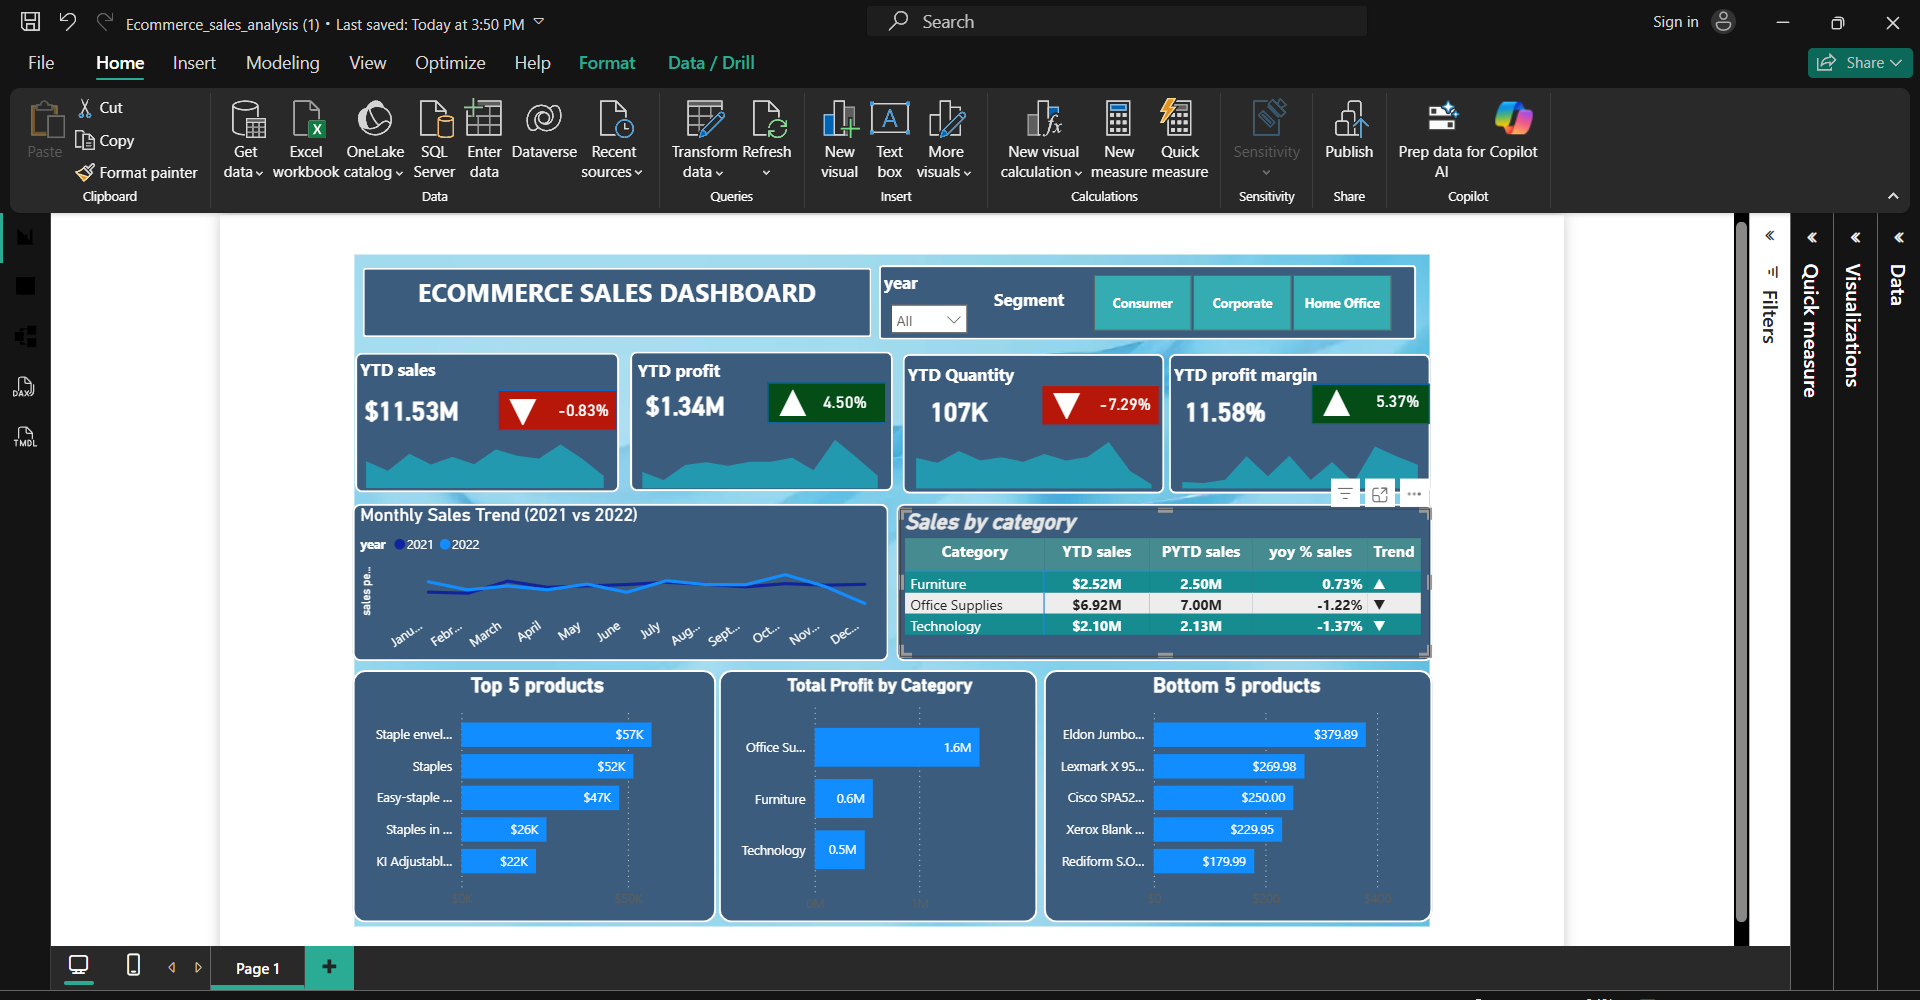

Layout of this report page (visuals, bound fields, positions):
{"tool":"powerbi","page":{"name":"Page 1","canvas":[1280,720],"ordinal":0},"visuals":[{"type":"shape","box":[135.6,49.4,485.1,66.7],"z":0},{"type":"textbox","box":[135.6,52.9,485.1,63.2],"z":1000},{"type":"shape","box":[129,131.2,251.6,133.3],"z":2000},{"type":"card","fields":{"Values":["sales_analysis ecommerce_data.YTD sales"]},"box":[129,159.1,108.6,52.7],"z":3000},{"type":"areaChart","fields":{"Category":["calendar_date.Month"],"Y":["Sum(sales_analysis ecommerce_data.sales_per_order)"]},"box":[125.8,197.8,252.7,67.7],"z":4000},{"type":"shape","box":[126.2,275,510.7,150],"z":5000},{"type":"shape","box":[264.5,166.7,114,38.7],"z":6000},{"type":"card","fields":{"Values":["sales_analysis ecommerce_data.yoy % sales"]},"box":[312.9,167.7,65.6,37.6],"z":7000},{"type":"textbox","box":[129,131.2,84.9,37.6],"z":8000},{"type":"shape","box":[390.3,130.1,250.5,133.3],"z":9000},{"type":"card","fields":{"Values":["sales_analysis ecommerce_data.YTD profit"]},"box":[389.2,154.8,108,52.7],"z":10000},{"type":"areaChart","fields":{"Category":["calendar_date.Month"],"Y":["Sum(sales_analysis ecommerce_data.profit_per_order)"]},"box":[389.2,198.9,250.5,66.7],"z":11000},{"type":"shape","box":[521.5,159.1,113,38.7],"z":12000},{"type":"card","fields":{"Values":["sales_analysis ecommerce_data.YOY profit"]},"box":[563.4,161.3,64.5,36.6],"z":13000},{"type":"card","fields":{"Values":["sales_analysis ecommerce_data.Sales Icon"]},"box":[264.5,166.7,48.4,38.7],"z":14000},{"type":"textbox","box":[392.5,132.3,104.3,37.6],"z":15000},{"type":"shape","box":[650.5,132.3,249.5,133.3],"z":16000},{"type":"card","fields":{"Values":["sales_analysis ecommerce_data.YTD Quantity"]},"box":[650.5,161.3,107.5,52.7],"z":17000},{"type":"areaChart","fields":{"Category":["calendar_date.Month"],"Y":["Sum(sales_analysis ecommerce_data.order_quantity)"]},"box":[650.5,200,250.5,65.6],"z":18000},{"type":"shape","box":[781.7,162.4,112.9,38.7],"z":19000},{"type":"card","fields":{"Values":["sales_analysis ecommerce_data.YOY quantity"]},"box":[830.1,163.4,64.5,36.6],"z":20000},{"type":"card","fields":{"Values":["sales_analysis ecommerce_data.Quantity Icon"]},"box":[781.7,161.3,48.4,38.7],"z":21000},{"type":"textbox","box":[650.5,135.5,131.2,37.6],"z":22000},{"type":"card","fields":{"Values":["sales_analysis ecommerce_data.Profit Icon"]},"box":[521.5,158.1,48.4,38.7],"z":23000},{"type":"shape","box":[903.1,131.9,249.5,133.3],"z":24000},{"type":"card","fields":{"Values":["sales_analysis ecommerce_data.YTD profit margin"]},"box":[903.1,161,107.5,52.7],"z":25000},{"type":"areaChart","fields":{"Category":["calendar_date.Month"],"Y":["sales_analysis ecommerce_data.Profit_Margin"]},"box":[903.1,199.7,250.5,65.6],"z":26000},{"type":"shape","box":[1039.7,161,112.9,38.7],"z":27000},{"type":"card","fields":{"Values":["sales_analysis ecommerce_data.Profit margin Icon"]},"box":[1039.7,158.8,48.4,38.7],"z":28000},{"type":"textbox","box":[903.2,135.5,177.4,32.3],"z":29000},{"type":"card","fields":{"Values":["sales_analysis ecommerce_data.YOY profit margin"]},"box":[1089.2,161.3,64.5,35.5],"z":30000},{"type":"lineChart","title":"Monthly Sales Trend (2021 vs 2022)","fields":{"Category":["calendar_date.Month"],"Y":["Sum(sales_analysis ecommerce_data.sales_per_order)"],"Series":["calendar_date.year"]},"box":[128.6,275,506,150],"z":31000},{"type":"shape","box":[644,275,510.7,150],"z":32000},{"type":"pivotTable","title":"Sales by category","fields":{"Rows":["sales_analysis ecommerce_data.category_name"],"Values":["sales_analysis ecommerce_data.YTD sales","sales_analysis ecommerce_data.PYTD sales","sales_analysis ecommerce_data.yoy % sales","sales_analysis ecommerce_data.Trend"]},"box":[647.6,279.8,504.8,140.5],"z":33000},{"type":"shape","box":[126.2,433.3,346.4,240.5],"z":34000},{"type":"shape","box":[784.5,433.3,370.2,240.5],"z":35000},{"type":"clusteredBarChart","title":"Top 5 products","fields":{"Category":["sales_analysis ecommerce_data.product_name"],"Y":["sales_analysis ecommerce_data.YTD sales"]},"box":[132.1,436.9,340.5,232.1],"z":36000},{"type":"clusteredBarChart","title":"Bottom 5 products","fields":{"Category":["sales_analysis ecommerce_data.product_name"],"Y":["sales_analysis ecommerce_data.YTD sales"]},"box":[784.5,436.9,367.9,232.1],"z":37000},{"type":"shape","box":[475,433.3,303.6,240.5],"z":38000},{"type":"clusteredBarChart","title":"Total Profit by Category","fields":{"Category":["sales_analysis ecommerce_data.Category"],"Y":["Sum(sales_analysis ecommerce_data.profit_per_order)"]},"box":[478.6,436.9,300,236.9],"z":39000},{"type":"shape","box":[636.9,47.6,502.4,71.4],"z":40000},{"type":"slicer","fields":{"Values":["sales_analysis ecommerce_data.customer_segment"]},"box":[806,50,333.3,66.7],"z":41000},{"type":"textbox","box":[650,64.3,126.2,41.7],"z":41001}]}

Visuals, with their boxes on the page's 1280x720 design canvas (x1, y1, x2, y2). These are canvas units, not pixel positions in the 1920x1000 screenshot, which may show the page scaled, cropped or inside an application window:
shape: detection(136, 49, 621, 116)
textbox: detection(136, 53, 621, 116)
shape: detection(129, 131, 381, 264)
card - sales_analysis ecommerce_data.YTD sales: detection(129, 159, 238, 212)
areaChart - calendar_date.Month x Sum(sales_analysis ecommerce_data.sales_per_order): detection(126, 198, 378, 266)
shape: detection(126, 275, 637, 425)
shape: detection(264, 167, 378, 205)
card - sales_analysis ecommerce_data.yoy % sales: detection(313, 168, 378, 205)
textbox: detection(129, 131, 214, 169)
shape: detection(390, 130, 641, 263)
card - sales_analysis ecommerce_data.YTD profit: detection(389, 155, 497, 208)
areaChart - calendar_date.Month x Sum(sales_analysis ecommerce_data.profit_per_order): detection(389, 199, 640, 266)
shape: detection(522, 159, 634, 198)
card - sales_analysis ecommerce_data.YOY profit: detection(563, 161, 628, 198)
card - sales_analysis ecommerce_data.Sales Icon: detection(264, 167, 313, 205)
textbox: detection(392, 132, 497, 170)
shape: detection(650, 132, 900, 266)
card - sales_analysis ecommerce_data.YTD Quantity: detection(650, 161, 758, 214)
areaChart - calendar_date.Month x Sum(sales_analysis ecommerce_data.order_quantity): detection(650, 200, 901, 266)
shape: detection(782, 162, 895, 201)
card - sales_analysis ecommerce_data.YOY quantity: detection(830, 163, 895, 200)
card - sales_analysis ecommerce_data.Quantity Icon: detection(782, 161, 830, 200)
textbox: detection(650, 136, 782, 173)
card - sales_analysis ecommerce_data.Profit Icon: detection(522, 158, 570, 197)
shape: detection(903, 132, 1153, 265)
card - sales_analysis ecommerce_data.YTD profit margin: detection(903, 161, 1011, 214)
areaChart - calendar_date.Month x sales_analysis ecommerce_data.Profit_Margin: detection(903, 200, 1154, 265)
shape: detection(1040, 161, 1153, 200)
card - sales_analysis ecommerce_data.Profit margin Icon: detection(1040, 159, 1088, 198)
textbox: detection(903, 136, 1081, 168)
card - sales_analysis ecommerce_data.YOY profit margin: detection(1089, 161, 1154, 197)
"Monthly Sales Trend (2021 vs 2022)" lineChart: detection(129, 275, 635, 425)
shape: detection(644, 275, 1155, 425)
"Sales by category" pivotTable: detection(648, 280, 1152, 420)
shape: detection(126, 433, 473, 674)
shape: detection(784, 433, 1155, 674)
"Top 5 products" clusteredBarChart: detection(132, 437, 473, 669)
"Bottom 5 products" clusteredBarChart: detection(784, 437, 1152, 669)
shape: detection(475, 433, 779, 674)
"Total Profit by Category" clusteredBarChart: detection(479, 437, 779, 674)
shape: detection(637, 48, 1139, 119)
slicer - sales_analysis ecommerce_data.customer_segment: detection(806, 50, 1139, 117)
textbox: detection(650, 64, 776, 106)
